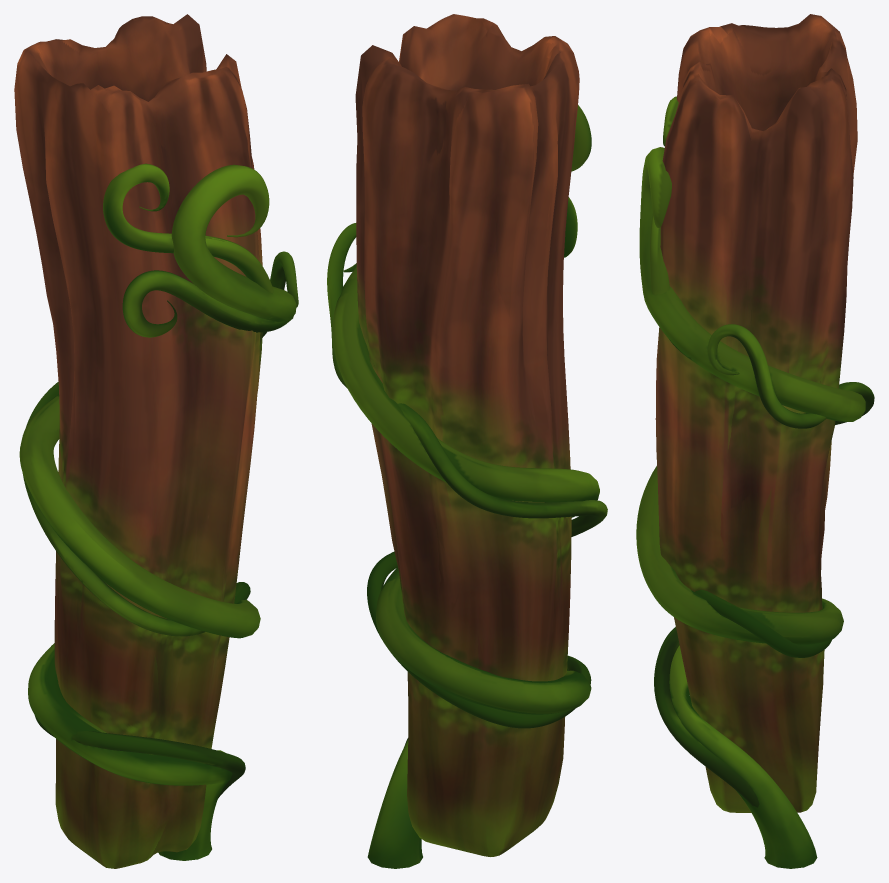
The model's file is Town_Bridge_Posts.glb.
3 views of the same model, side by side, from view 1: azimuth 30°, elevation 25°; view 2: azimuth 150°, elevation 25°; view 3: azimuth 270°, elevation 25° (orthographic). The views are drawn at different scales.
Visible parts, largest first — view 1: Cube, NurbsPath; view 2: Cube, NurbsPath; view 3: Cube, NurbsPath.
Part boxes in pixels (x1,y1,x2,y2): Cube: [14, 14, 262, 868]; NurbsPath: [19, 163, 298, 860]; Cube: [355, 14, 579, 856]; NurbsPath: [327, 105, 607, 868]; Cube: [655, 14, 857, 812]; NurbsPath: [636, 96, 874, 868].
Bounding box in the file's own units: 0.8356 × 2.66 × 0.7388.
1 material, 1 textured.
